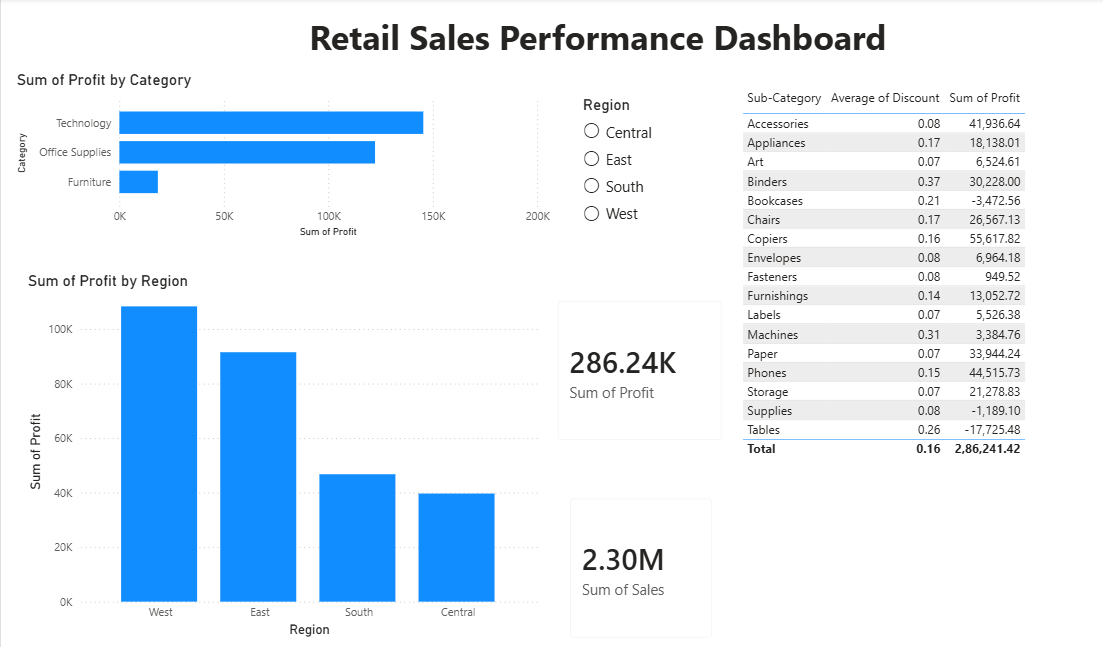

The page's visual inventory and layout, read from the dashboard file:
{"tool":"powerbi","page":{"name":"Page 1","canvas":[1280,720],"ordinal":0},"visuals":[{"type":"cardVisual","fields":{"Data":["Sum(superstore.Sales)"]},"box":[607.9,532.4,190.7,188],"z":0},{"type":"cardVisual","fields":{"Data":["Sum(superstore.Profit)"]},"box":[594.2,315.6,214.1,188],"z":1000},{"type":"clusteredBarChart","fields":{"Category":["superstore.Category"],"Y":["Sum(superstore.Profit)"]},"box":[0,79.6,595.5,188],"z":2000},{"type":"clusteredColumnChart","fields":{"Category":["superstore.Region"],"Y":["Sum(superstore.Profit)"]},"box":[0,300.5,569.5,406.2],"z":3000},{"type":"listSlicer","fields":{"Values":["superstore.Region"]},"box":[618.9,107,164.7,208.6],"z":4000},{"type":"textbox","box":[203.1,12.3,904.3,67.2],"z":6000},{"type":"tableEx","fields":{"Values":["superstore.Sub-Category","Avg(superstore.Discount)","Sum(superstore.Profit)"]},"box":[808.2,93.3,344.4,627.1],"z":6001}]}

Visuals, with their boxes on the page's 1280x720 design canvas (x1, y1, x2, y2). These are canvas units, not pixel positions in the 1103x647 screenshot, which may show the page scaled, cropped or inside an application window:
cardVisual - Sum(superstore.Sales): <box>608,532,799,720</box>
cardVisual - Sum(superstore.Profit): <box>594,316,808,504</box>
clusteredBarChart - superstore.Category x Sum(superstore.Profit): <box>0,80,596,268</box>
clusteredColumnChart - superstore.Region x Sum(superstore.Profit): <box>0,300,570,707</box>
listSlicer - superstore.Region: <box>619,107,784,316</box>
textbox: <box>203,12,1107,80</box>
tableEx - superstore.Sub-Category x Avg(superstore.Discount): <box>808,93,1153,720</box>
